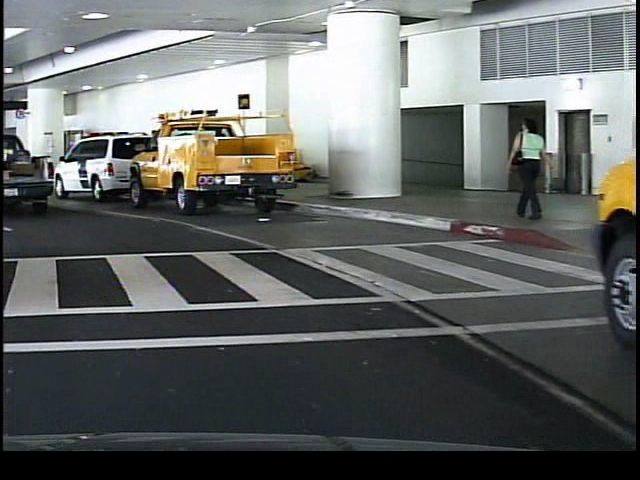person: (501, 113, 548, 225)
